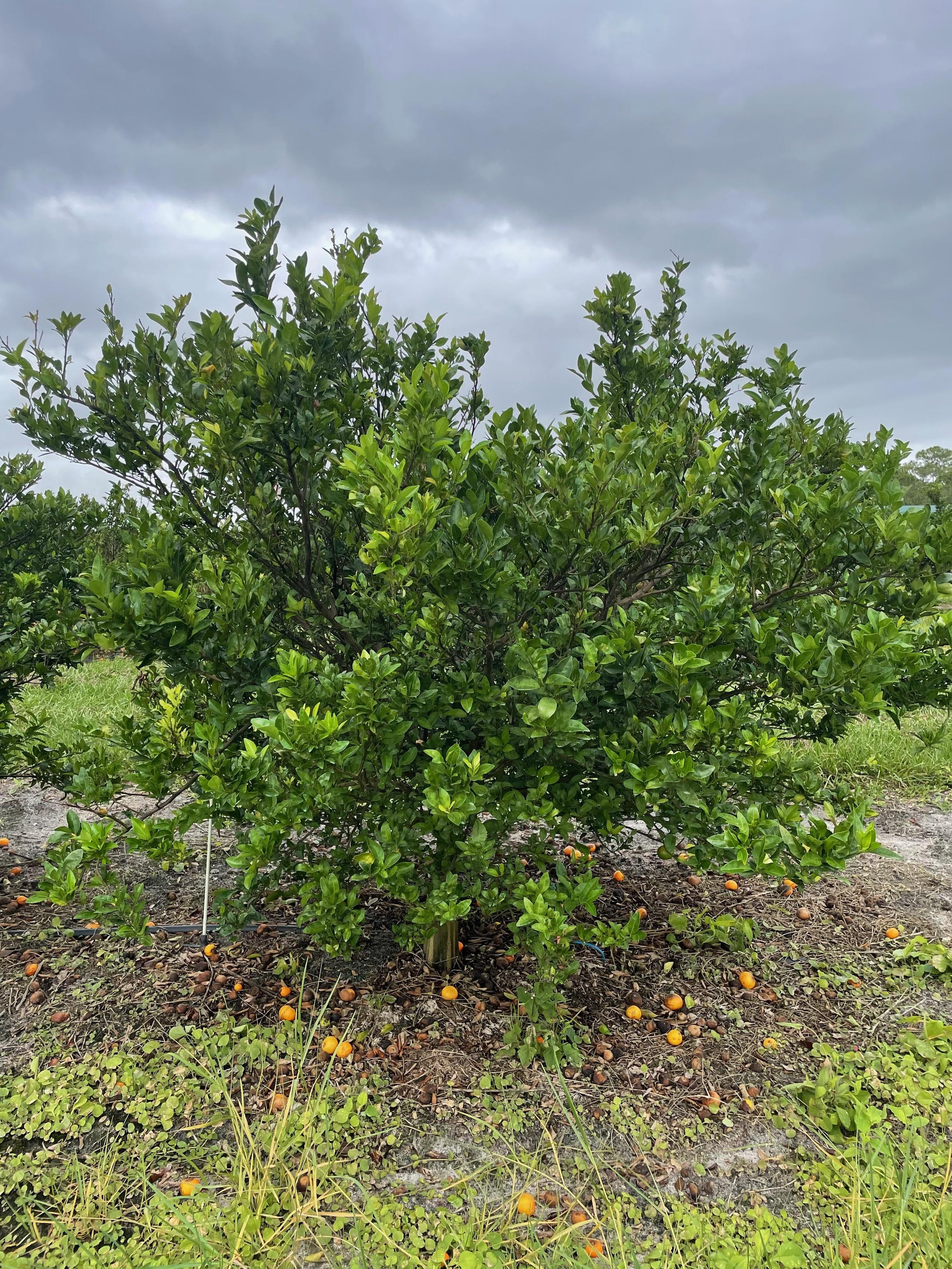fruit_on_ground: (655, 843, 675, 861), (97, 807, 109, 819)
fruit_on_tree: (515, 1192, 538, 1218), (178, 1176, 202, 1198), (583, 1237, 606, 1259), (737, 968, 758, 989), (701, 1090, 722, 1110), (269, 1092, 290, 1112), (334, 1039, 354, 1059), (663, 993, 684, 1012), (440, 982, 460, 1001), (295, 1171, 314, 1190), (321, 1035, 339, 1055), (278, 1003, 297, 1021), (569, 1208, 588, 1226), (23, 961, 41, 979), (664, 1027, 682, 1045), (28, 988, 47, 1005), (337, 986, 356, 1003), (624, 1003, 642, 1020), (580, 1062, 597, 1078), (591, 1069, 608, 1085), (761, 1035, 778, 1051), (641, 1017, 658, 1033), (202, 942, 219, 958), (686, 1021, 702, 1038), (737, 1097, 755, 1112), (49, 1010, 68, 1024), (796, 905, 812, 921), (685, 872, 702, 887), (723, 877, 740, 892), (452, 938, 467, 954), (884, 925, 900, 940), (846, 975, 863, 989), (634, 905, 649, 920), (278, 983, 293, 998), (782, 876, 798, 890), (778, 883, 794, 897), (174, 1001, 189, 1015), (676, 851, 690, 865), (569, 848, 583, 862), (561, 844, 575, 858), (215, 972, 229, 986), (612, 868, 626, 882), (9, 863, 23, 876), (15, 892, 28, 905), (583, 842, 597, 854), (143, 919, 156, 930), (0, 835, 11, 847), (232, 982, 244, 992)
